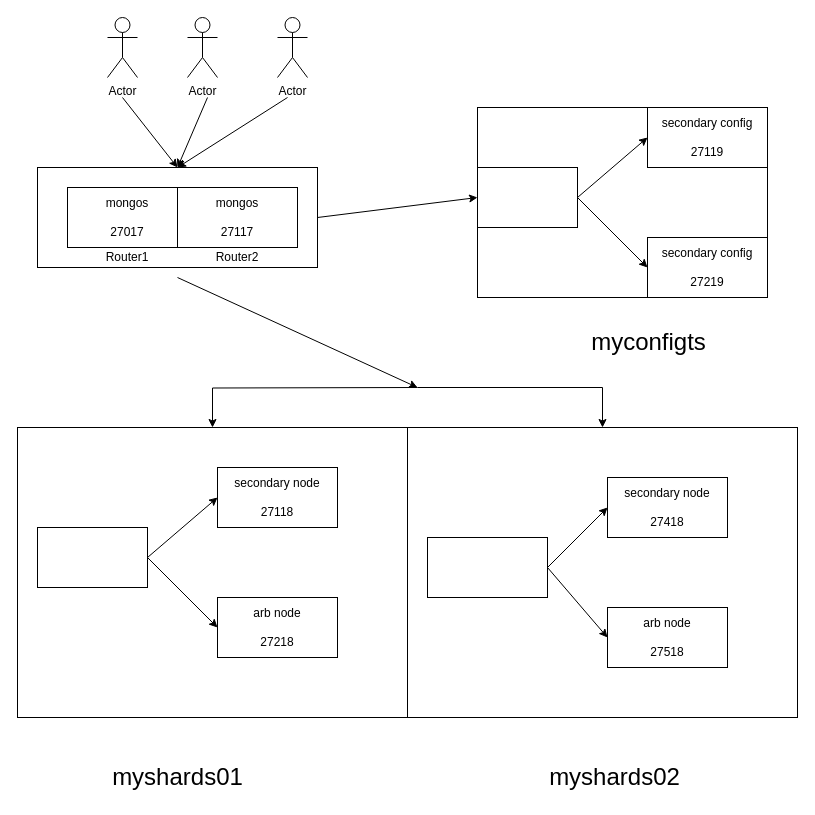
The diagram is 815 pixels wide and 815 high, and some of its shapes have lost their labels. The shapes that lost their labels are listed below. From the top down, each one's centre as x and y in pixels, then its label:
point (527, 197): primary config 27019
point (92, 557): primary node 27018
point (487, 567): primary node 27318
